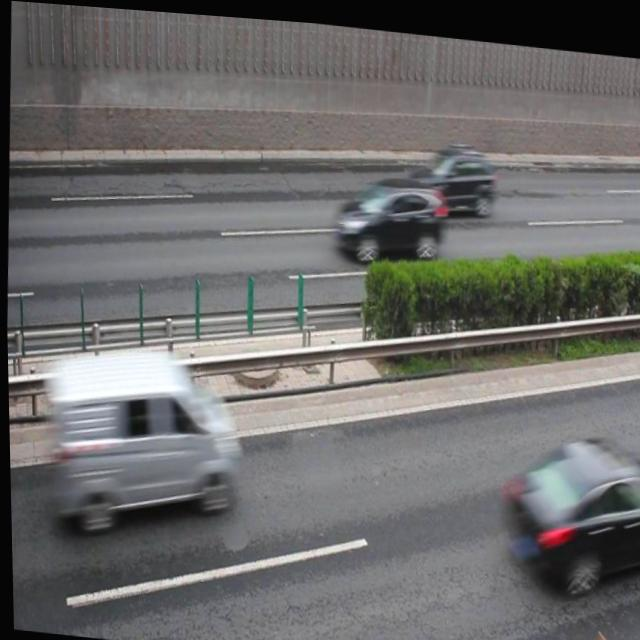car: (500, 419, 640, 591), (333, 165, 444, 263), (398, 131, 494, 214)
truck: (34, 335, 237, 542)
